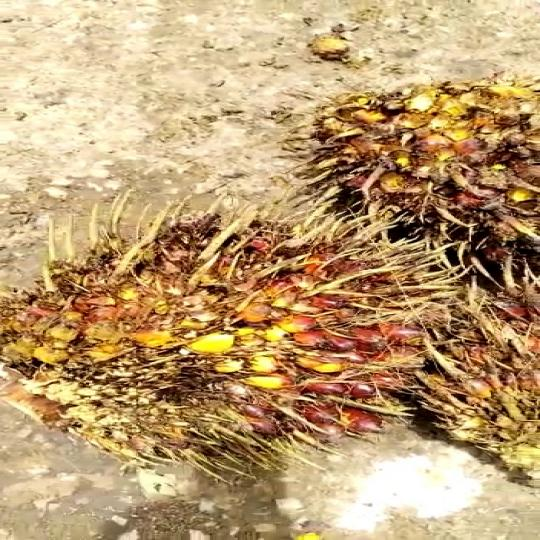masak: (0, 198, 490, 460), (311, 80, 540, 277)
